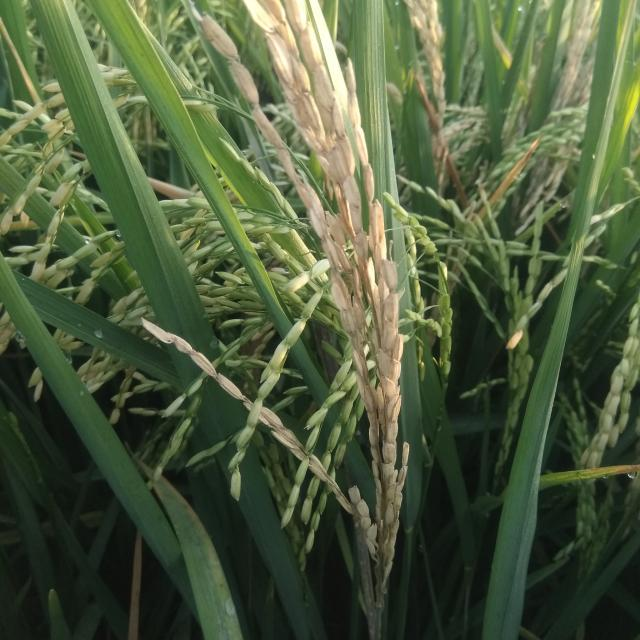Brown spot: (467, 136, 545, 224), (569, 460, 640, 490)
